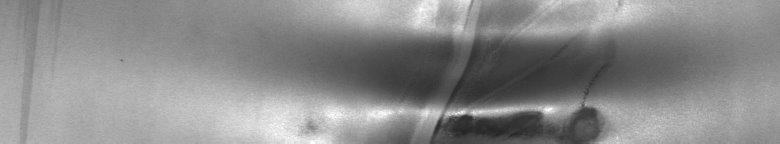ke: (304, 4, 619, 136)
